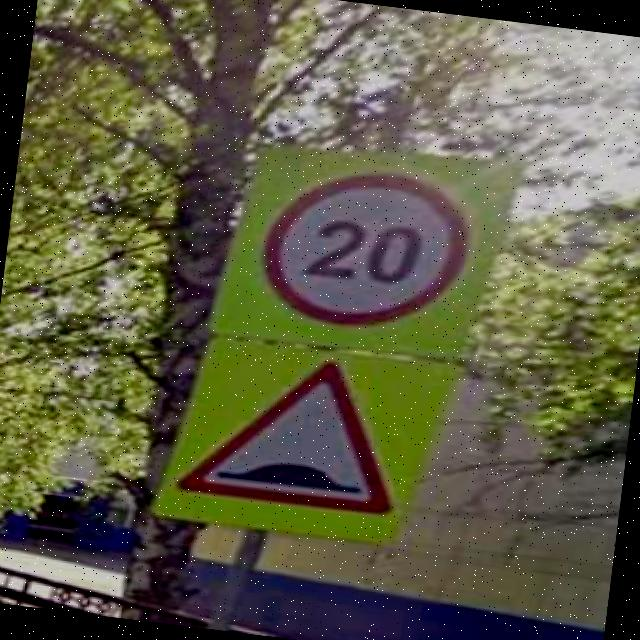Ograniczenie predkosci do 20: (254, 156, 478, 342)
